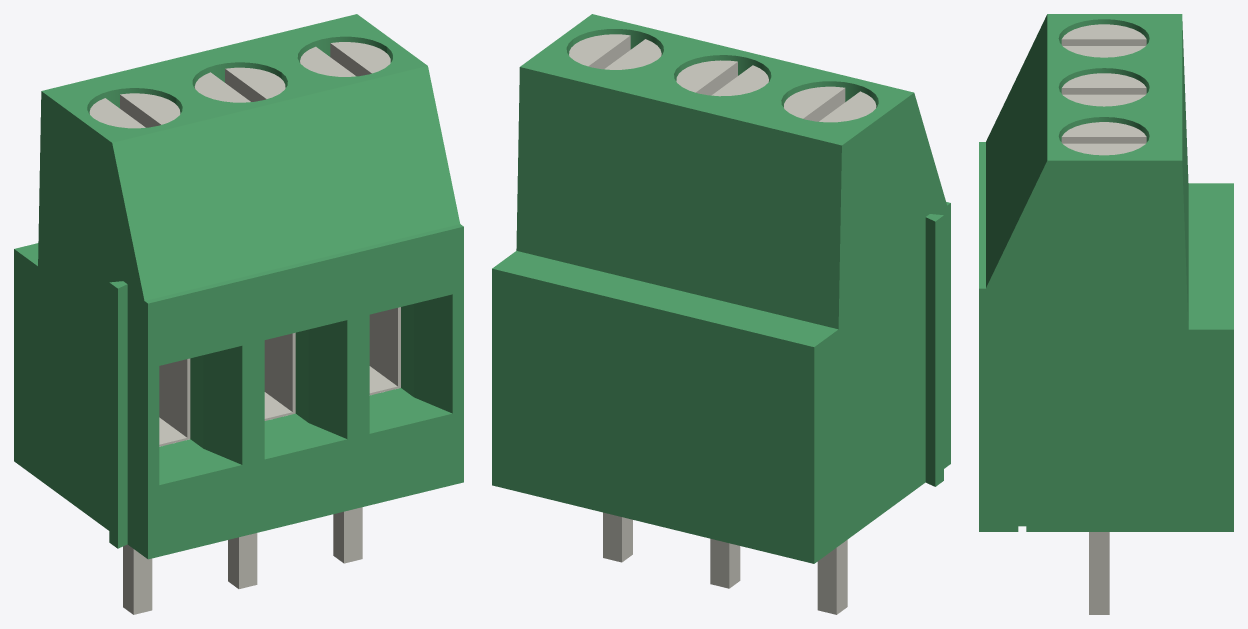
File: kc-terminalblock_phoenix_mkds-3-3-5.08_1x03_p5.08mm_horizontal.glb
3 renders of one model, left to right at view 1: azimuth 30°, elevation 25°; view 2: azimuth 150°, elevation 25°; view 3: azimuth 270°, elevation 25°, orthographic. The views are drawn at different scales.
Visible parts, largest first — view 1: 0.08333333333333333_0.4166666666666667_0.16666666666666666_0, 0.6666666666666666_0.6666666666666666_0.5833333333333334_0.8; view 2: 0.08333333333333333_0.4166666666666667_0.16666666666666666_0, 0.6666666666666666_0.6666666666666666_0.5833333333333334_0.8; view 3: 0.08333333333333333_0.4166666666666667_0.16666666666666666_0, 0.6666666666666666_0.6666666666666666_0.5833333333333334_0.8.
Boxes of the visible parts, x1,y1,x2,y2 form: 0.08333333333333333_0.4166666666666667_0.16666666666666666_0: (14,14,463,559); 0.6666666666666666_0.6666666666666666_0.5833333333333334_0.8: (89,42,400,614); 0.08333333333333333_0.4166666666666667_0.16666666666666666_0: (492,14,950,563); 0.6666666666666666_0.6666666666666666_0.5833333333333334_0.8: (569,34,876,614); 0.08333333333333333_0.4166666666666667_0.16666666666666666_0: (979,14,1233,531); 0.6666666666666666_0.6666666666666666_0.5833333333333334_0.8: (1061,24,1146,614).
Size of the model in its own units: 1.58 by 2.3 by 1.12.
